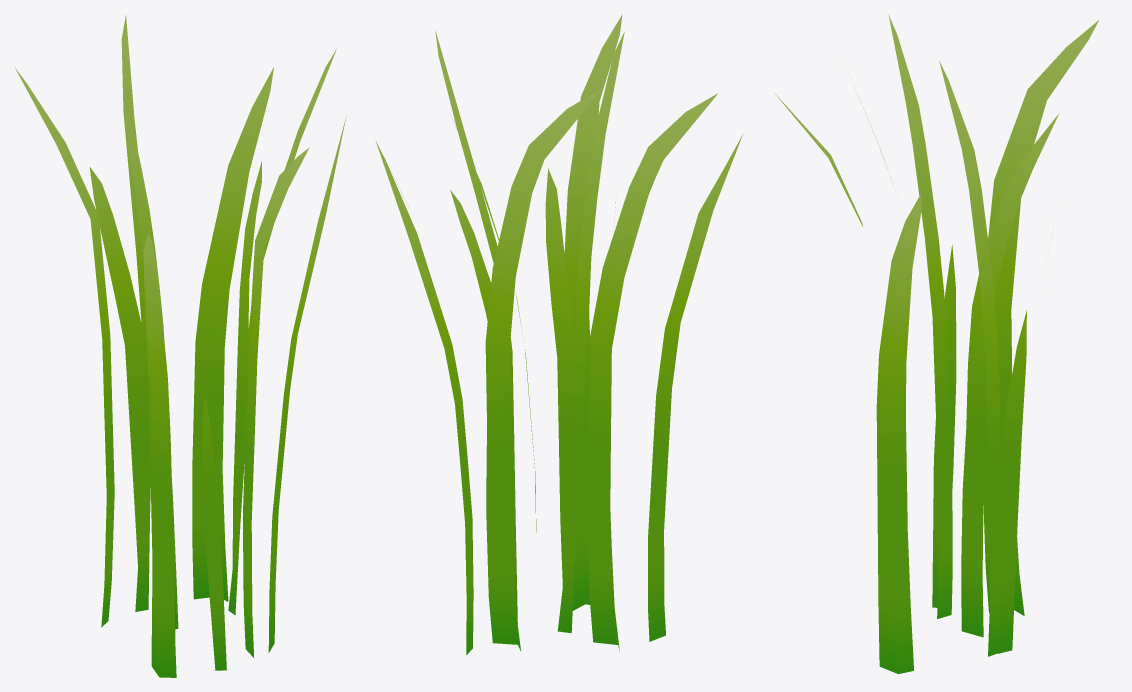
File: Grass_Common_Tall.glb
3 views of the same model, side by side, from view 1: azimuth 30°, elevation 25°; view 2: azimuth 150°, elevation 25°; view 3: azimuth 270°, elevation 25° (orthographic). The views are drawn at different scales.
Visible parts, largest first — view 1: Grass_Common_Tall; view 2: Grass_Common_Tall; view 3: Grass_Common_Tall.
Part boxes in pixels (left/top/right/bottom): Grass_Common_Tall: left=15, top=15, right=346, bottom=677; Grass_Common_Tall: left=375, top=14, right=743, bottom=654; Grass_Common_Tall: left=774, top=15, right=1098, bottom=673.
Bounding box in the file's own units: 0.8951 × 1.87 × 0.9931.
Materials: 1 (1 with a texture image).
